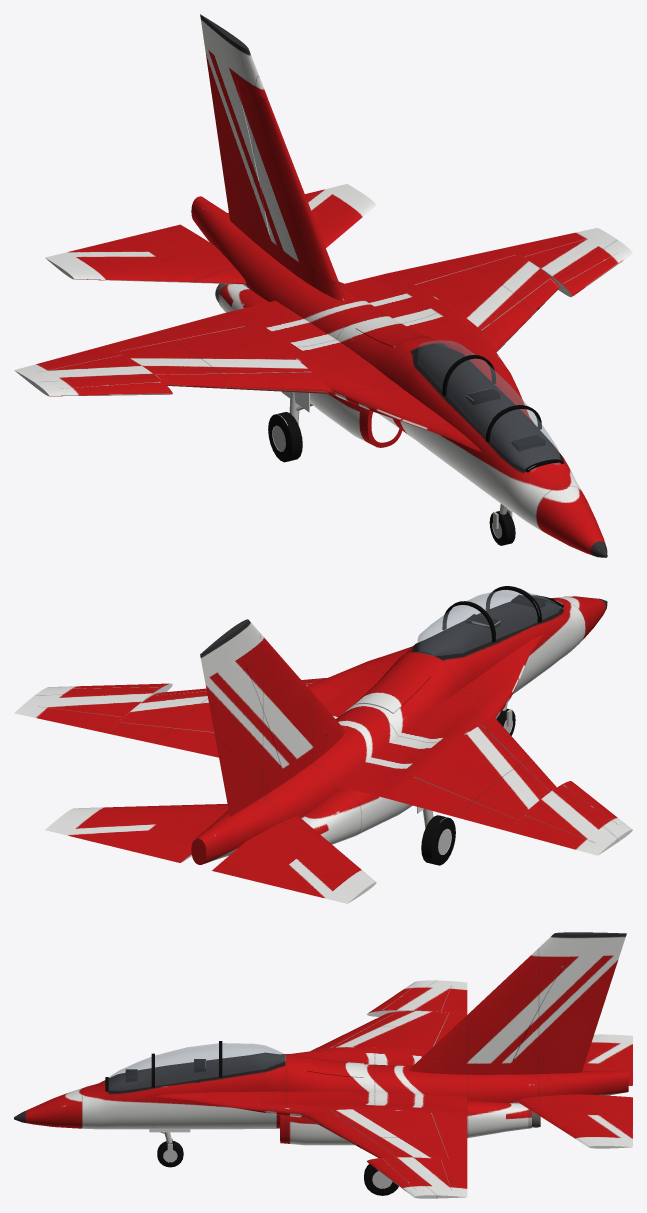
Rendered from Yak130_web.glb.
3 renders of one model, top to bottom at view 1: azimuth 30°, elevation 25°; view 2: azimuth 150°, elevation 25°; view 3: azimuth 270°, elevation 25°, orthographic. The views are drawn at different scales.
Parts seen in each view (by area): view 1: Airframe, Stab_R, Canopy_Glass, Rudder, LEFlapIn_R, Stab_L, Flap_R, LEFlapIn_L, Flap_L, MainWheel_R, Airbrake, LEFlapOut_R (+4 smaller); view 2: Airframe, Stab_R, Stab_L, Rudder, Canopy_Glass, Flap_R, Flap_L, Airbrake, MainWheel_R, Aileron_R, Aileron_L, LEFlapIn_R (+2 smaller); view 3: Airframe, Rudder, Canopy_Glass, Stab_L, Stab_R, Flap_L, LEFlapIn_L, Airbrake, MainWheel_L, Aileron_L, Aileron_R, LEFlapOut_L (+2 smaller).
Boxes of the visible parts, left/top/right/bottom form: Airframe: left=14, top=14, right=632, bottom=557; Stab_R: left=45, top=224, right=246, bottom=284; Canopy_Glass: left=418, top=340, right=560, bottom=471; Rudder: left=206, top=54, right=269, bottom=237; LEFlapIn_R: left=155, top=372, right=327, bottom=393; Stab_L: left=227, top=184, right=376, bottom=247; Flap_R: left=108, top=314, right=244, bottom=351; LEFlapIn_L: left=482, top=278, right=558, bottom=352; Flap_L: left=391, top=248, right=515, bottom=284; MainWheel_R: left=268, top=412, right=302, bottom=462; Airbrake: left=355, top=317, right=431, bottom=347; LEFlapOut_R: left=60, top=382, right=170, bottom=395; Airframe: left=14, top=594, right=632, bottom=864; Stab_R: left=212, top=816, right=376, bottom=903; Stab_L: left=45, top=804, right=228, bottom=862; Rudder: left=206, top=661, right=281, bottom=801; Canopy_Glass: left=417, top=590, right=560, bottom=656; Flap_R: left=391, top=777, right=514, bottom=829; Flap_L: left=108, top=722, right=218, bottom=757; Airbrake: left=355, top=665, right=431, bottom=713; MainWheel_R: left=421, top=815, right=455, bottom=865; Aileron_R: left=507, top=815, right=594, bottom=851; Aileron_L: left=27, top=706, right=120, bottom=732; LEFlapIn_R: left=481, top=719, right=556, bottom=791; Airframe: left=14, top=932, right=628, bottom=1198; Rudder: left=513, top=960, right=617, bottom=1061; Canopy_Glass: left=109, top=1043, right=285, bottom=1090; Stab_L: left=517, top=1094, right=632, bottom=1148; Stab_R: left=582, top=1034, right=632, bottom=1085; Flap_L: left=431, top=1113, right=467, bottom=1160; LEFlapIn_L: left=306, top=1110, right=395, bottom=1157; Airbrake: left=306, top=1056, right=363, bottom=1077; MainWheel_L: left=364, top=1164, right=398, bottom=1195; Aileron_L: left=441, top=1160, right=467, bottom=1192; Aileron_R: left=441, top=985, right=467, bottom=1013; LEFlapOut_L: left=367, top=1158, right=416, bottom=1192.
Size of the model in its own units: 9.3 by 4.69 by 11.32.
2 materials, 1 textured.
